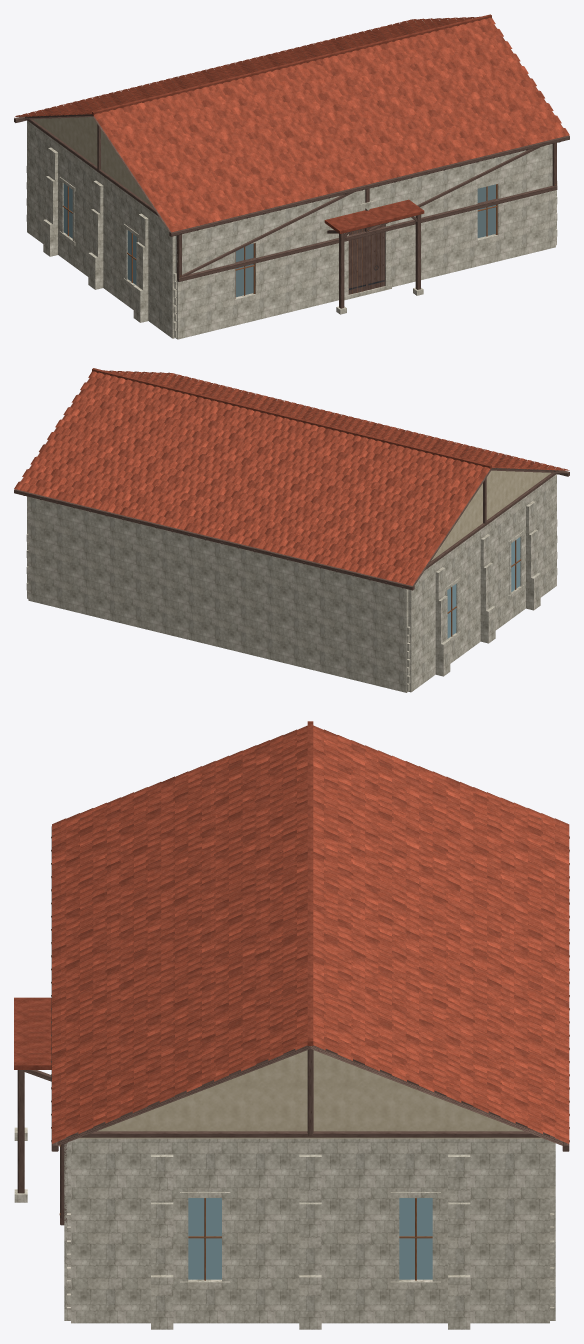
Rendered from B03_salon.glb.
3 renders of one model, top to bottom at view 1: azimuth 30°, elevation 25°; view 2: azimuth 150°, elevation 25°; view 3: azimuth 270°, elevation 25°, orthographic. The views are drawn at different scales.
Visible parts, largest first — view 1: AUR034_B03_clay_tiles, AUR034_B03_lower_masonry, AUR034_B03_stone_buttresses, AUR034_B03_gable-1, AUR034_B03_sill, AUR034_B03_fascia-1, AUR034_B03_ridge, AUR034_B03_porch_clay_roof, AUR034_B03_entry_leaf1, AUR034_B03_entry_leaf0, AUR034_B03_window1_glazing, AUR034_B03_window0_glazing (+8 smaller); view 2: AUR034_B03_clay_tiles, AUR034_B03_lower_masonry, AUR034_B03_stone_buttresses, AUR034_B03_gable-1, AUR034_B03_fascia1, AUR034_B03_ridge, AUR034_B03_gable_tie-1, AUR034_B03_roof_sheathing, AUR034_B03_side_window-1_1_glass, AUR034_B03_side_window-1_0_glass; view 3: AUR034_B03_clay_tiles, AUR034_B03_lower_masonry, AUR034_B03_gable1, AUR034_B03_stone_buttresses, AUR034_B03_gable_tie1, AUR034_B03_porch_clay_roof, AUR034_B03_side_window1_0_glass, AUR034_B03_side_window1_1_glass, AUR034_B03_roof_sheathing, AUR034_B03_ridge, AUR034_B03_porch_post1, AUR034_B03_dressed_corner_stones.
Boxes of the visible parts, left/top/right/bottom form: AUR034_B03_clay_tiles: left=14, top=16, right=569, bottom=232; AUR034_B03_lower_masonry: left=27, top=120, right=556, bottom=339; AUR034_B03_stone_buttresses: left=43, top=147, right=148, bottom=322; AUR034_B03_gable-1: left=33, top=114, right=152, bottom=206; AUR034_B03_sill: left=177, top=185, right=557, bottom=281; AUR034_B03_fascia-1: left=169, top=135, right=569, bottom=236; AUR034_B03_ridge: left=92, top=14, right=491, bottom=115; AUR034_B03_porch_clay_roof: left=324, top=199, right=424, bottom=233; AUR034_B03_entry_leaf1: left=366, top=225, right=385, bottom=290; AUR034_B03_entry_leaf0: left=348, top=228, right=366, bottom=294; AUR034_B03_window1_glazing: left=477, top=184, right=495, bottom=237; AUR034_B03_window0_glazing: left=235, top=243, right=253, bottom=297; AUR034_B03_clay_tiles: left=14, top=370, right=569, bottom=585; AUR034_B03_lower_masonry: left=27, top=474, right=556, bottom=692; AUR034_B03_stone_buttresses: left=435, top=501, right=540, bottom=676; AUR034_B03_gable-1: left=431, top=467, right=550, bottom=560; AUR034_B03_fascia1: left=14, top=489, right=414, bottom=590; AUR034_B03_ridge: left=92, top=368, right=491, bottom=468; AUR034_B03_gable_tie-1: left=425, top=470, right=558, bottom=569; AUR034_B03_roof_sheathing: left=148, top=379, right=566, bottom=585; AUR034_B03_side_window-1_1_glass: left=447, top=584, right=456, bottom=638; AUR034_B03_side_window-1_0_glass: left=511, top=537, right=520, bottom=591; AUR034_B03_clay_tiles: left=52, top=725, right=569, bottom=1143; AUR034_B03_lower_masonry: left=64, top=1138, right=555, bottom=1323; AUR034_B03_gable1: left=78, top=1050, right=542, bottom=1138; AUR034_B03_stone_buttresses: left=151, top=1154, right=470, bottom=1329; AUR034_B03_gable_tie1: left=71, top=1131, right=549, bottom=1137; AUR034_B03_porch_clay_roof: left=14, top=997, right=51, bottom=1069; AUR034_B03_side_window1_0_glass: left=188, top=1198, right=221, bottom=1279; AUR034_B03_side_window1_1_glass: left=399, top=1198, right=432, bottom=1279; AUR034_B03_roof_sheathing: left=58, top=1046, right=562, bottom=1145; AUR034_B03_ridge: left=307, top=721, right=313, bottom=1045; AUR034_B03_porch_post1: left=17, top=1070, right=24, bottom=1193; AUR034_B03_dressed_corner_stones: left=67, top=1213, right=554, bottom=1319.
Bounding box in the file's own units: 19.04 × 7.99 × 13.93.
Materials: 10 (8 with a texture image).
